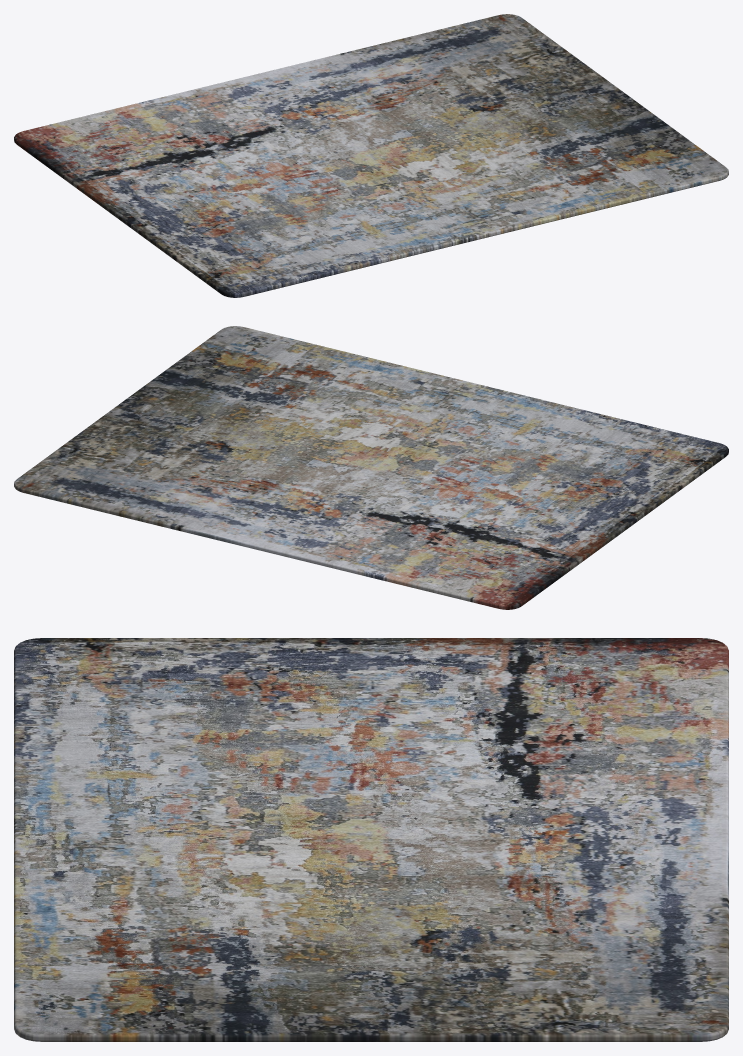
3 renders of one model, top to bottom at view 1: azimuth 30°, elevation 25°; view 2: azimuth 150°, elevation 25°; view 3: azimuth 270°, elevation 25°, orthographic. The views are drawn at different scales.
Parts seen in each view (by area): view 1: Cube; view 2: Cube; view 3: Cube.
Boxes of the visible parts, x1=… form: Cube: x1=14, y1=14, x2=728, y2=297; Cube: x1=14, y1=326, x2=728, y2=609; Cube: x1=14, y1=638, x2=728, y2=1041.
Bounding box in the file's own units: 4.56 × 0.04 × 3.46.
1 material, 1 textured.
